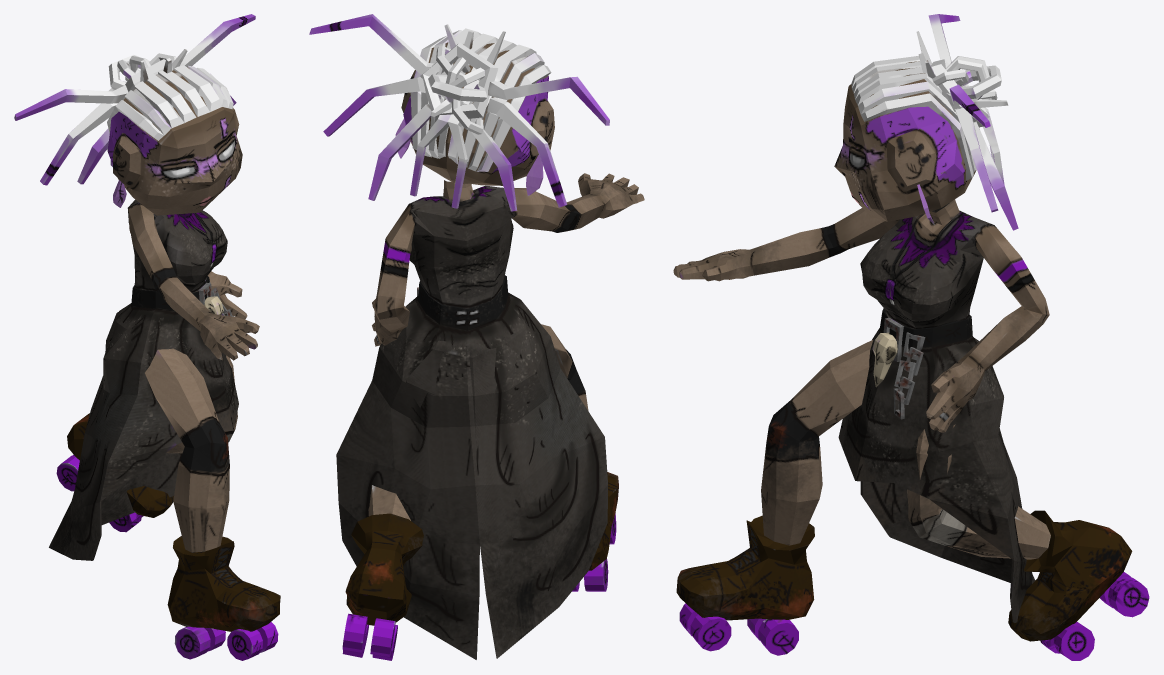
Rendered from bruja_000008.obj.
The picture shows the model from 3 angles, left to right: view 1: azimuth 30°, elevation 25°; view 2: azimuth 150°, elevation 25°; view 3: azimuth 270°, elevation 25°; orthographic projection. The views are drawn at different scales.
Visible parts, largest first — view 1: Bruja_Plane.001; view 2: Bruja_Plane.001; view 3: Bruja_Plane.001.
Boxes of the visible parts, left/top/right/bottom form: Bruja_Plane.001: left=14, top=14, right=280, bottom=660; Bruja_Plane.001: left=309, top=14, right=644, bottom=660; Bruja_Plane.001: left=673, top=14, right=1149, bottom=660.
Bounding box in the file's own units: 7.4 × 15.21 × 10.59.
